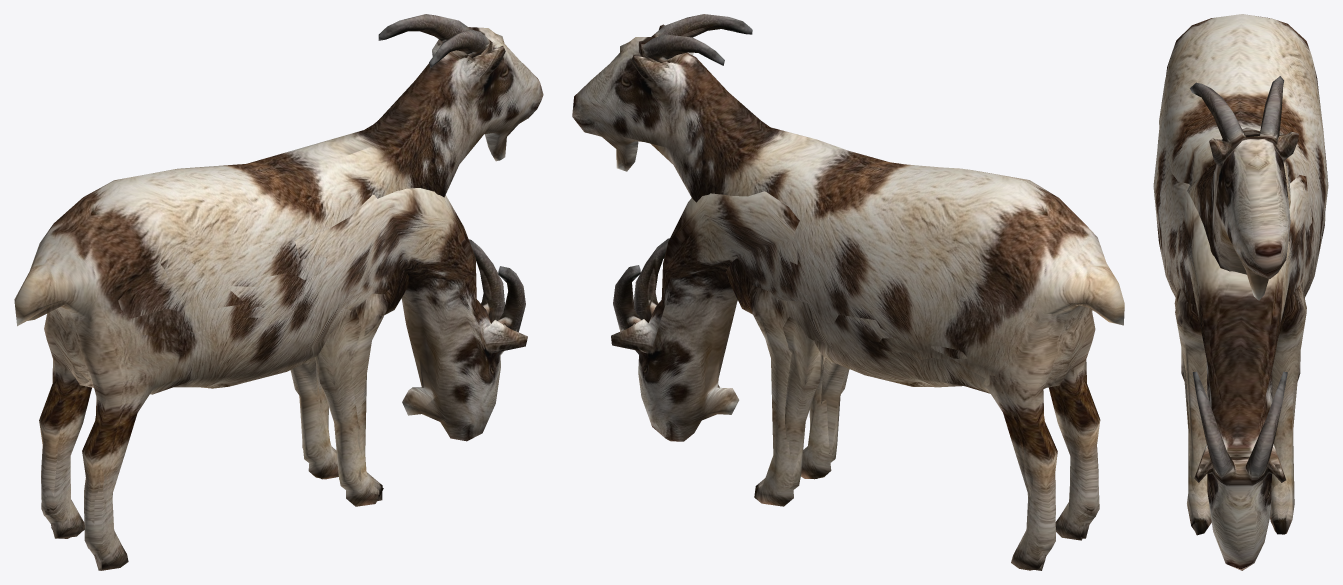
The model's file is v5-cabra-estatica.glb.
3 views of the same model, side by side, from view 1: azimuth 30°, elevation 25°; view 2: azimuth 150°, elevation 25°; view 3: azimuth 270°, elevation 25° (orthographic). The views are drawn at different scales.
Visible parts, largest first — view 1: Cabra_parada, Cabra_pastando; view 2: Cabra_parada, Cabra_pastando; view 3: Cabra_parada, Cabra_pastando.
Boxes of the visible parts, left/top/right/bottom form: Cabra_parada: left=14, top=14, right=543, bottom=570; Cabra_pastando: left=27, top=188, right=527, bottom=570; Cabra_parada: left=572, top=14, right=1124, bottom=570; Cabra_pastando: left=611, top=191, right=1099, bottom=570; Cabra_parada: left=1156, top=14, right=1328, bottom=535; Cabra_pastando: left=1153, top=72, right=1325, bottom=570.
Size of the model in its own units: 1.19 by 0.9381 by 0.3029.
1 material, 1 textured.
